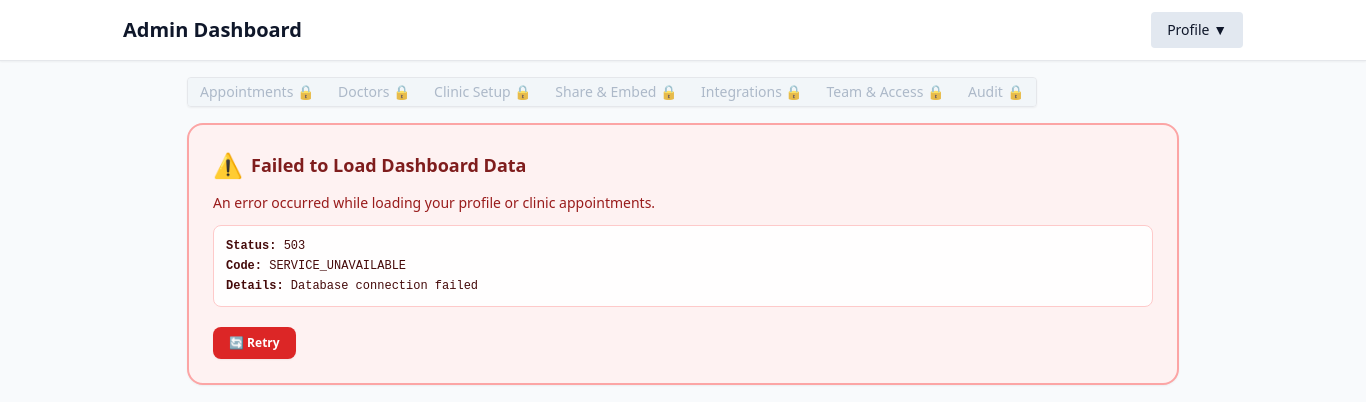
it: Dashboard Views and Navigation (Tasks A4, A5, A6, A7) › AdminDashboard Error Banner & Retry Handling › displays visible error banner with status code and retry button when /me fails with non-401
Expected: the message is shown, [187, 123, 1179, 385]
Expected: the heading "Failed to Load Dashboard Data" is shown, [251, 151, 526, 179]
// Click retry
Click the button "🔄 Retry". click: (254, 343)
box: [213, 327, 296, 359]
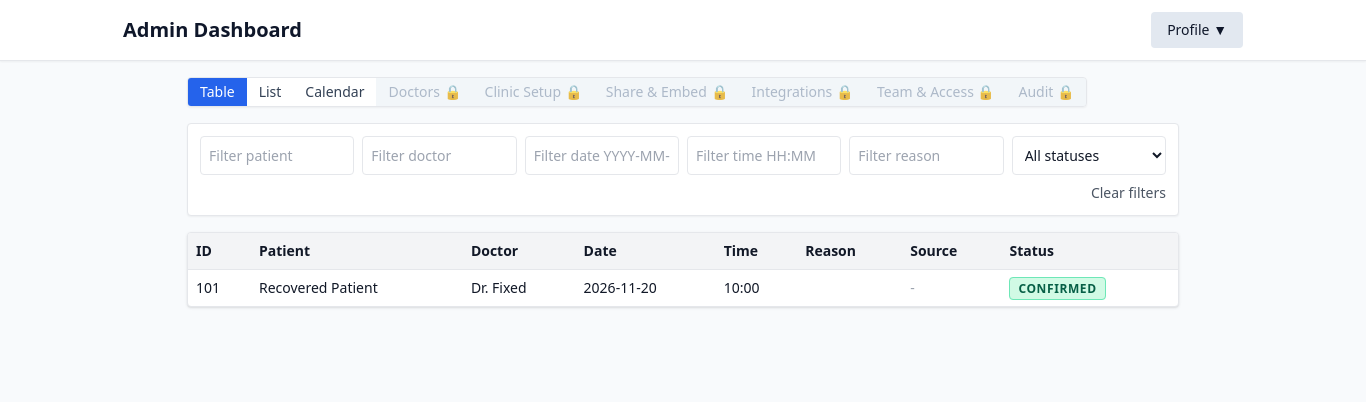
Expected: the text "Recovered Patient" is shown, [251, 270, 463, 306]
Expected: the message is gone
